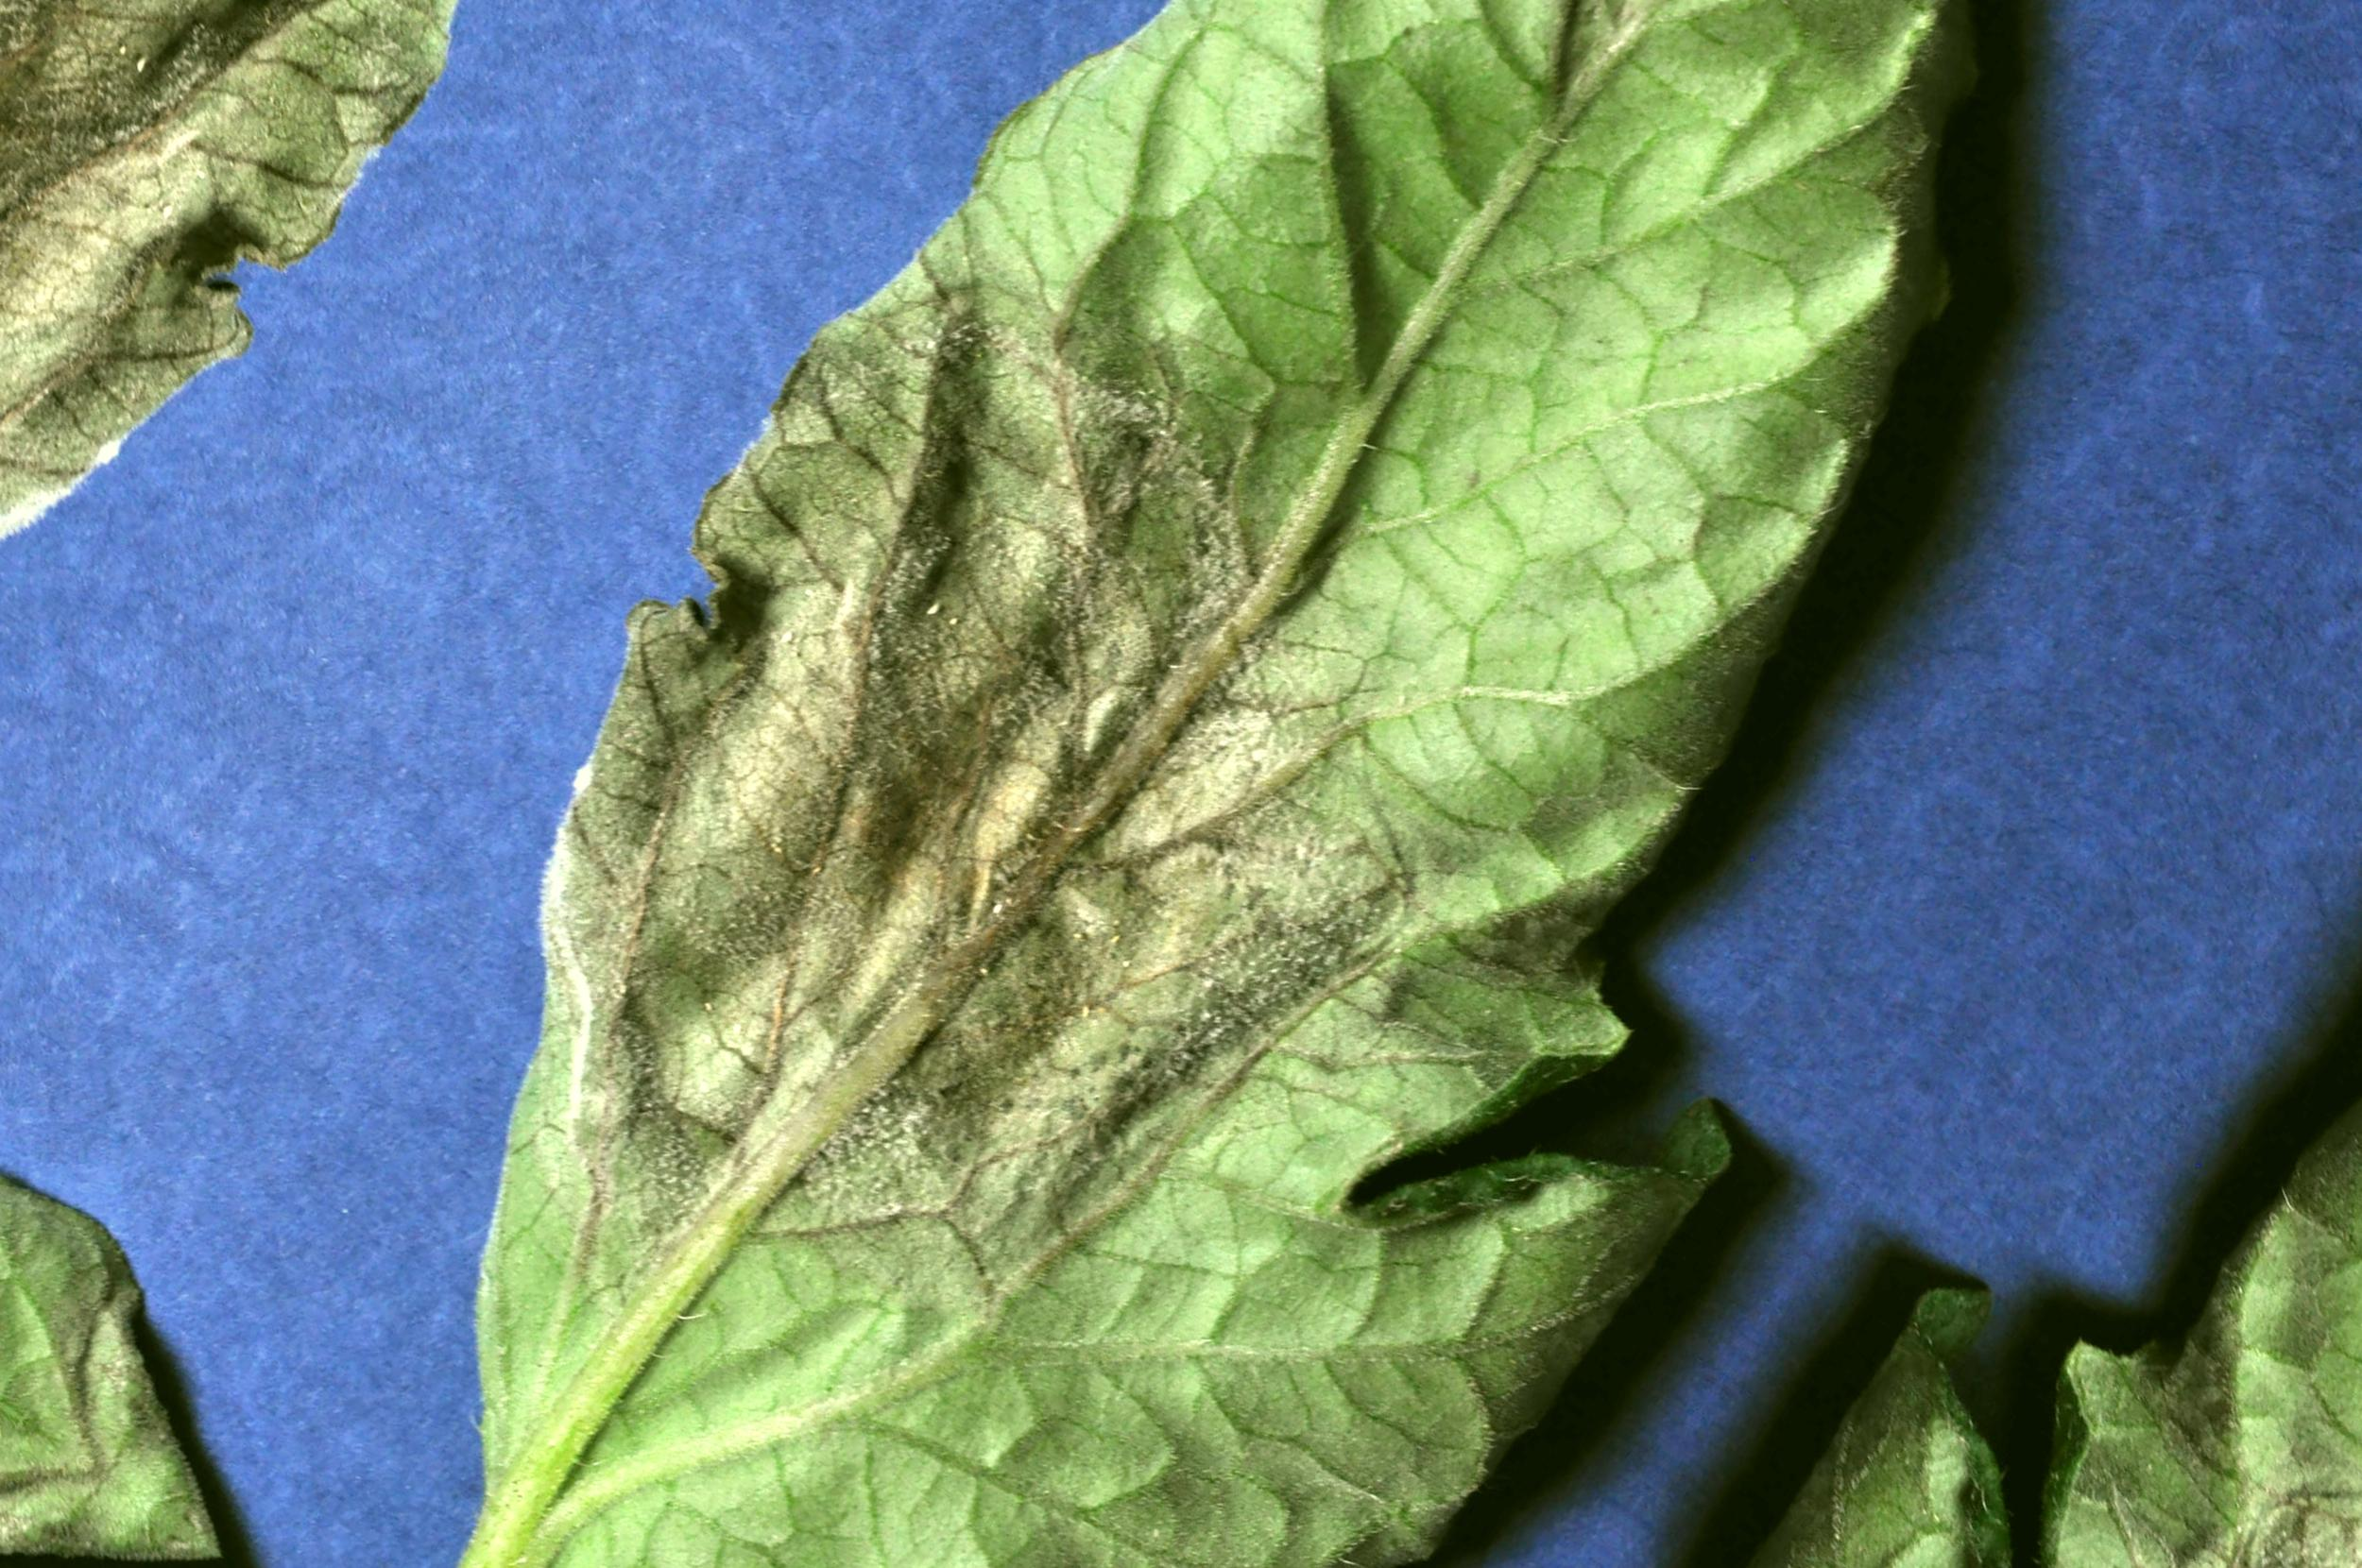Tomato leaf late blight: (87, 0, 2362, 1568)
